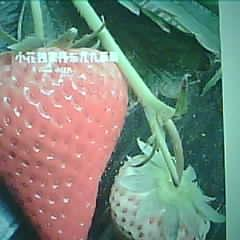straw-ripe: (0, 50, 128, 240)
